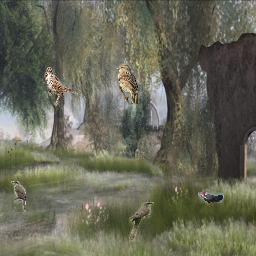Cuckoo: (129, 202, 154, 242), (11, 181, 26, 212)
Sparrow: (44, 67, 79, 107), (116, 64, 138, 104)
Woodpecker: (198, 192, 224, 203)
